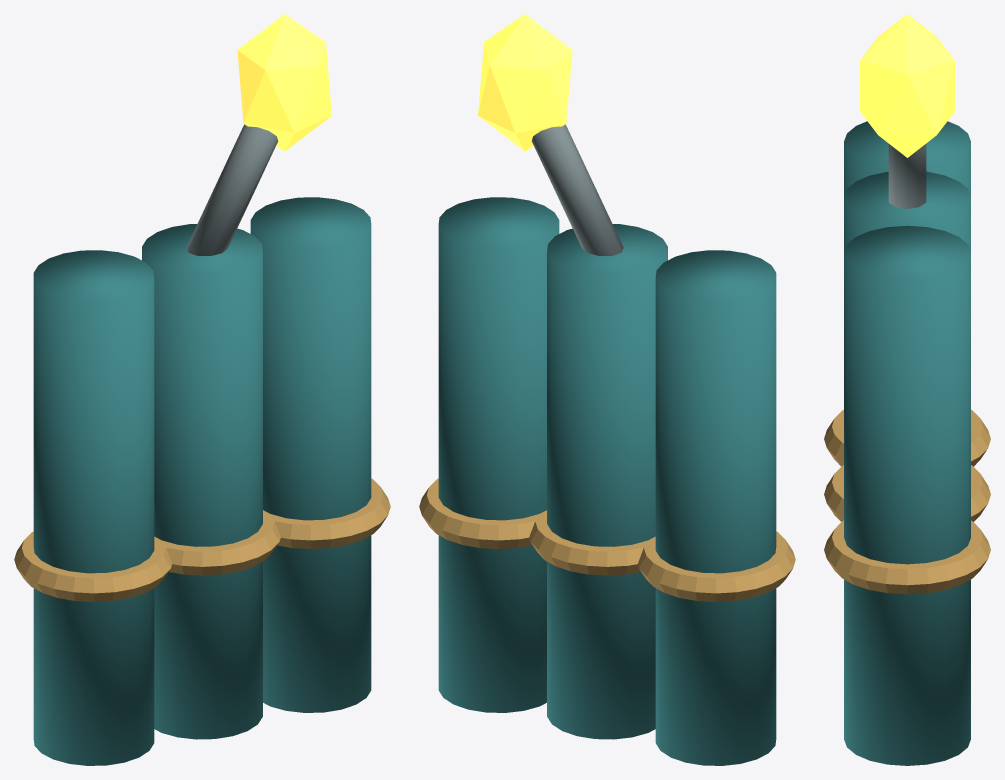
File: relic-gildedFuse.glb
3 views of the same model, side by side, from view 1: azimuth 30°, elevation 25°; view 2: azimuth 150°, elevation 25°; view 3: azimuth 270°, elevation 25° (orthographic). The views are drawn at different scales.
Parts seen in each view (by area): view 1: relic-gildedFuse / Paint | North Sea petrol, relic-gildedFuse / Brass | machined champagne, relic-gildedFuse / Lamp | amber, relic-gildedFuse / Iron | weathered steel; view 2: relic-gildedFuse / Paint | North Sea petrol, relic-gildedFuse / Brass | machined champagne, relic-gildedFuse / Lamp | amber, relic-gildedFuse / Iron | weathered steel; view 3: relic-gildedFuse / Paint | North Sea petrol, relic-gildedFuse / Lamp | amber, relic-gildedFuse / Brass | machined champagne, relic-gildedFuse / Iron | weathered steel.
Part boxes in pixels (x1,y1,x2,y2): relic-gildedFuse / Paint | North Sea petrol: (33, 197, 371, 765); relic-gildedFuse / Brass | machined champagne: (14, 478, 390, 601); relic-gildedFuse / Lamp | amber: (237, 14, 331, 151); relic-gildedFuse / Iron | weathered steel: (186, 124, 277, 255); relic-gildedFuse / Paint | North Sea petrol: (438, 197, 776, 765); relic-gildedFuse / Brass | machined champagne: (419, 478, 795, 601); relic-gildedFuse / Lamp | amber: (478, 14, 572, 151); relic-gildedFuse / Iron | weathered steel: (532, 124, 623, 255); relic-gildedFuse / Paint | North Sea petrol: (844, 121, 970, 765); relic-gildedFuse / Lamp | amber: (860, 14, 954, 157); relic-gildedFuse / Brass | machined champagne: (824, 409, 990, 594); relic-gildedFuse / Iron | weathered steel: (888, 144, 926, 208).
Bounding box in the file's own units: 1.08 × 1.98 × 0.42.
